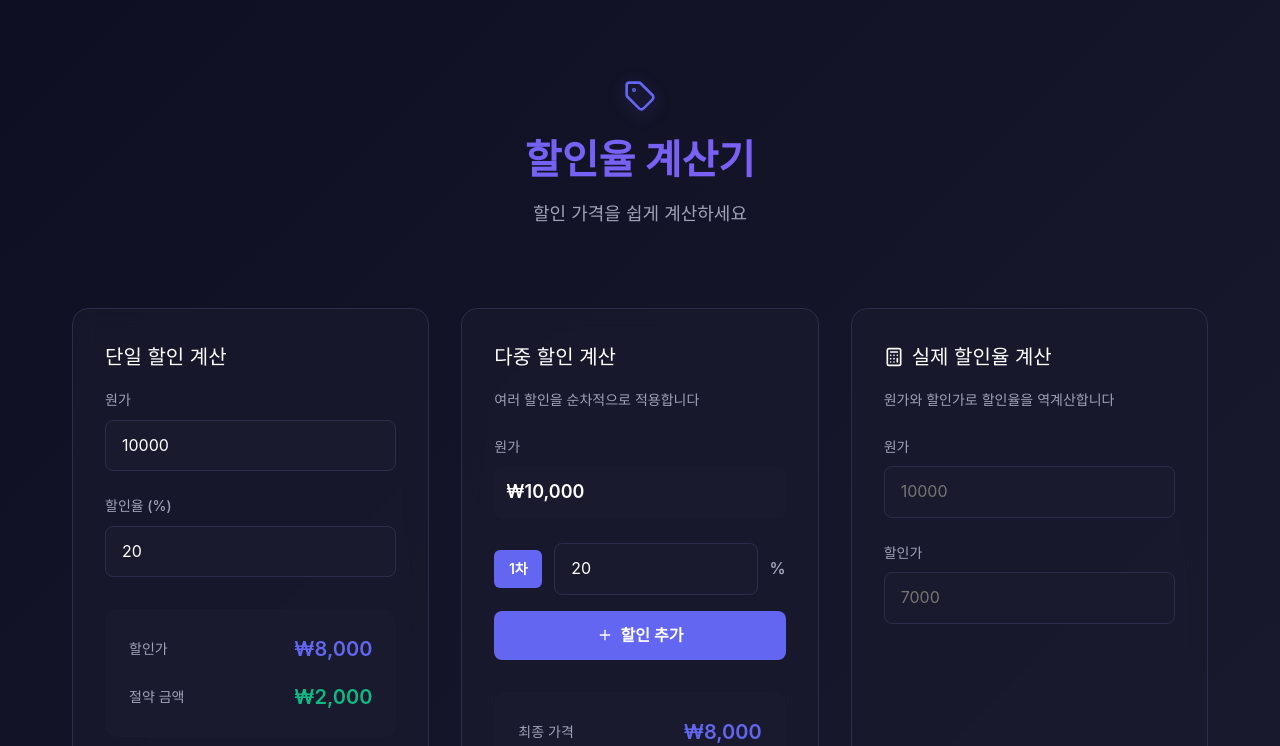
DiscountCalculator 컴포넌트 › 다중 할인 계산 › 할인 제거 버튼 클릭시 할인이 제거된다
The width and height of the screenshot is (1280, 746).
Click the button "할인 추가" at x=640, y=635, box [494, 611, 786, 660]
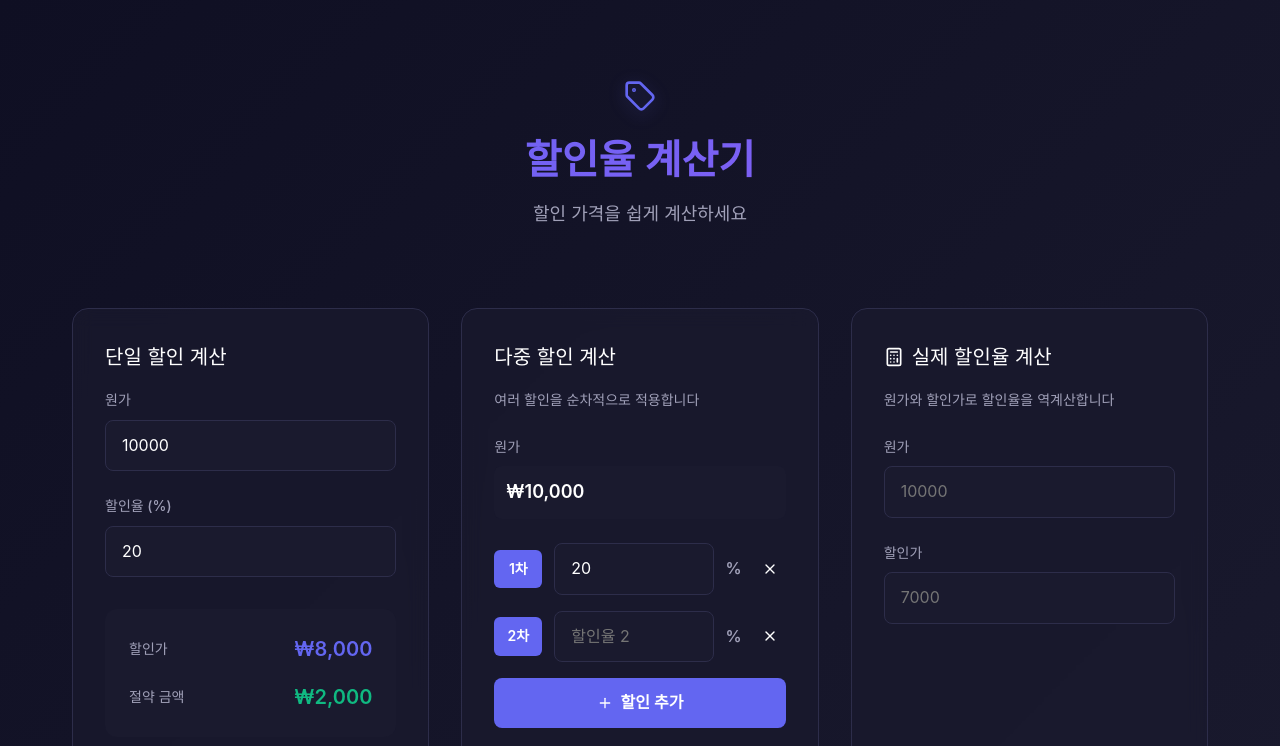
Click the button "할인 추가" at x=640, y=703, box [494, 678, 786, 728]
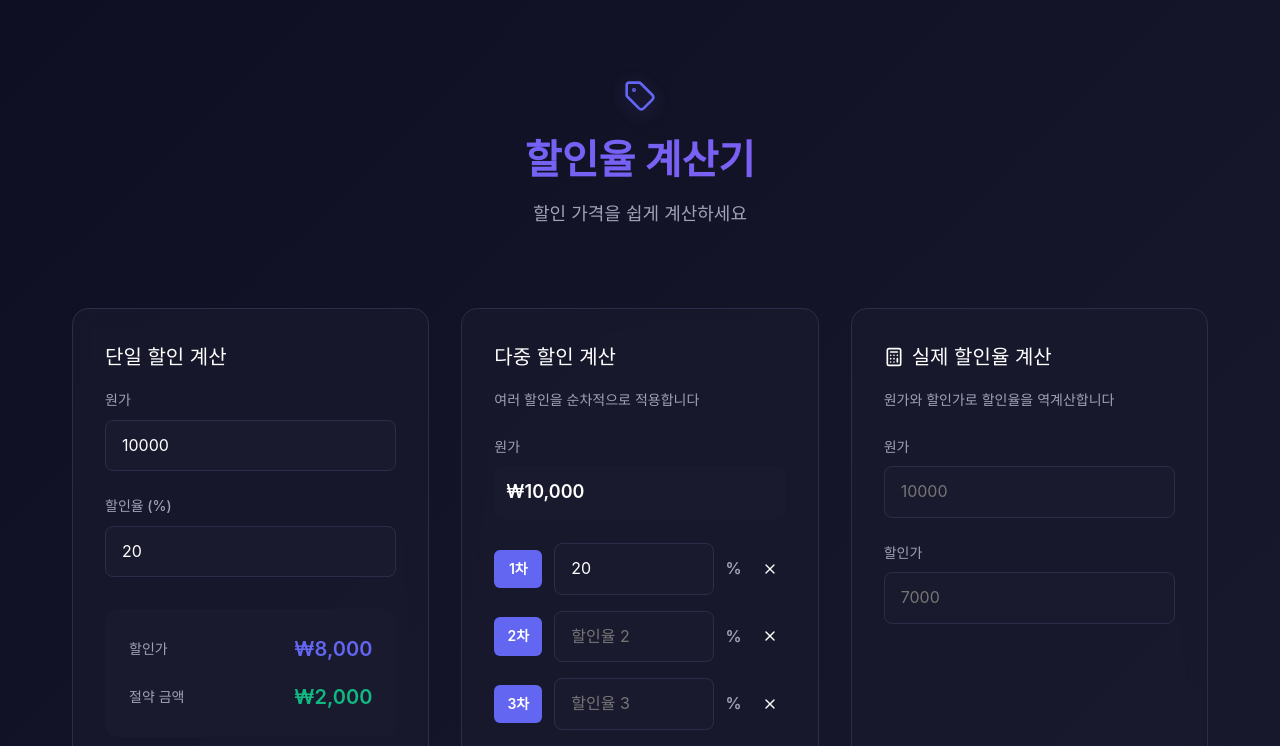
Expected: the number of buttons named "할인 제거" is 3
Click the 1st button named "할인 제거" at x=770, y=569, box [754, 553, 786, 585]
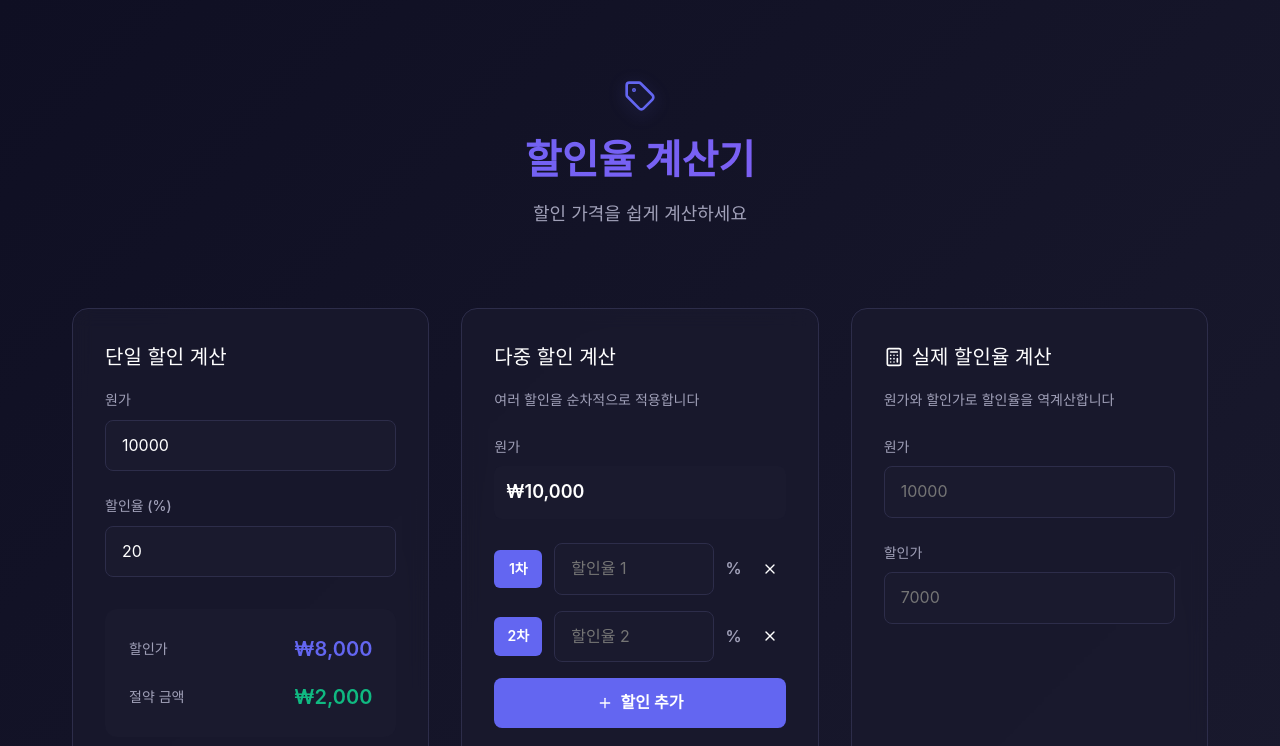
Expected: the text "1차" is shown 2 times, [494, 550, 542, 588]; [494, 617, 542, 656]
